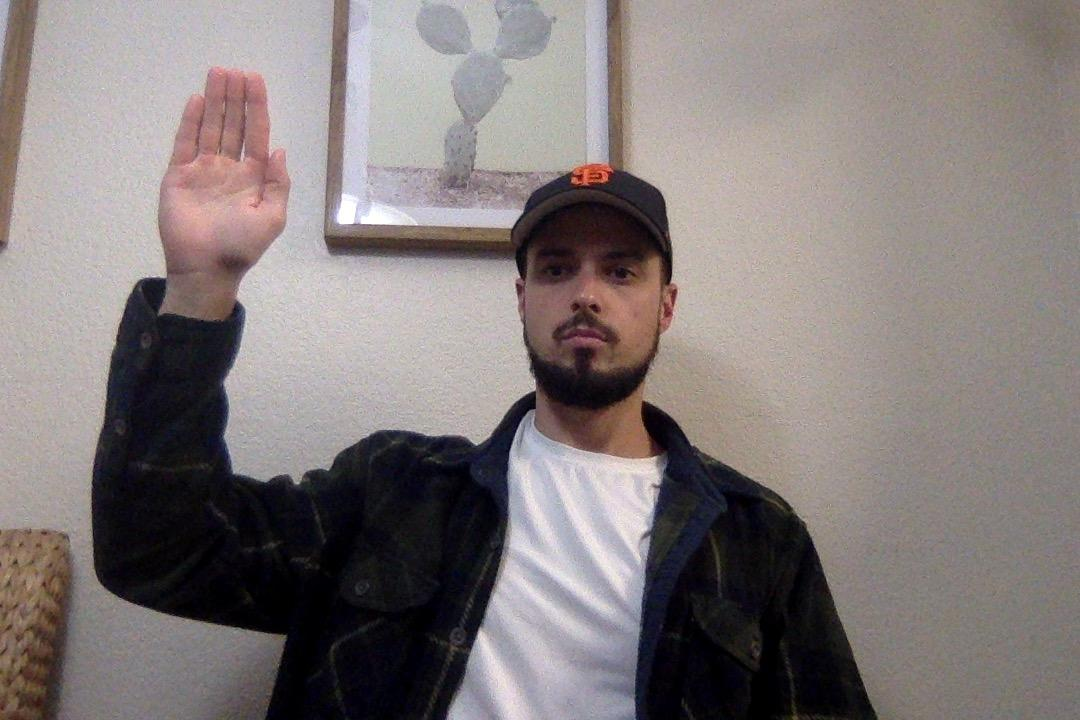Hand-Raised: (159, 62, 292, 312)
